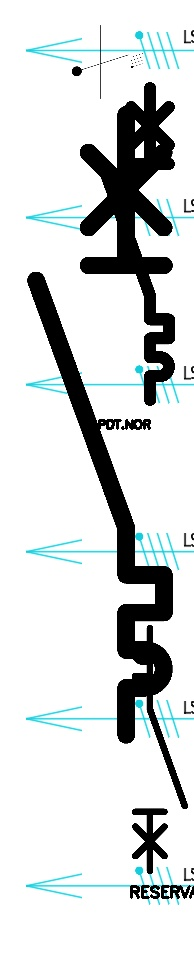interruptor_termomagnetico: (20, 98, 180, 750), (97, 80, 177, 408), (129, 622, 191, 877)
